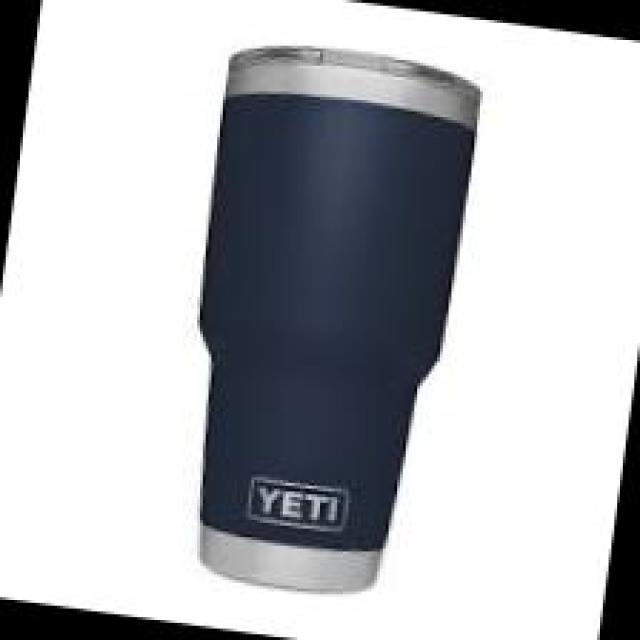bottle: (160, 34, 486, 609)
